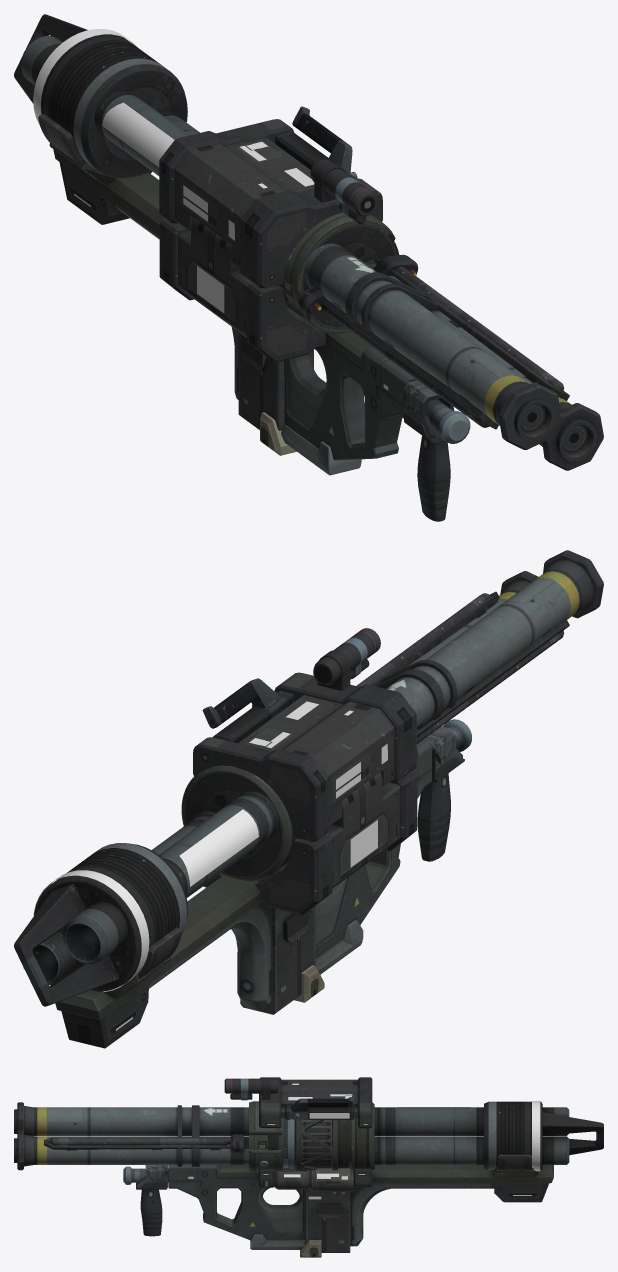
File: M41_1stP_Rigged.fbx
The picture shows the model from 3 angles, top to bottom: view 1: azimuth 30°, elevation 25°; view 2: azimuth 150°, elevation 25°; view 3: azimuth 270°, elevation 25°; orthographic projection. The views are drawn at different scales.
Parts seen in each view (by area): view 1: Launcher Body, Launcher Tubes (Cylinder), Launcher Magazine; view 2: Launcher Body, Launcher Tubes (Cylinder), Launcher Magazine; view 3: Launcher Tubes (Cylinder), Launcher Body, Launcher Magazine.
Part boxes in pixels (x1,y1,x2,y2): Launcher Body: [38, 106, 470, 521]; Launcher Tubes (Cylinder): [14, 14, 603, 470]; Launcher Magazine: [279, 213, 399, 333]; Launcher Body: [55, 628, 471, 1048]; Launcher Tubes (Cylinder): [14, 550, 603, 1006]; Launcher Magazine: [181, 765, 297, 881]; Launcher Tubes (Cylinder): [14, 1101, 603, 1171]; Launcher Body: [123, 1077, 553, 1257]; Launcher Magazine: [249, 1101, 374, 1171].
Size of the model in its own units: 16.79 by 36.29 by 112.
5 materials, 1 textured.
